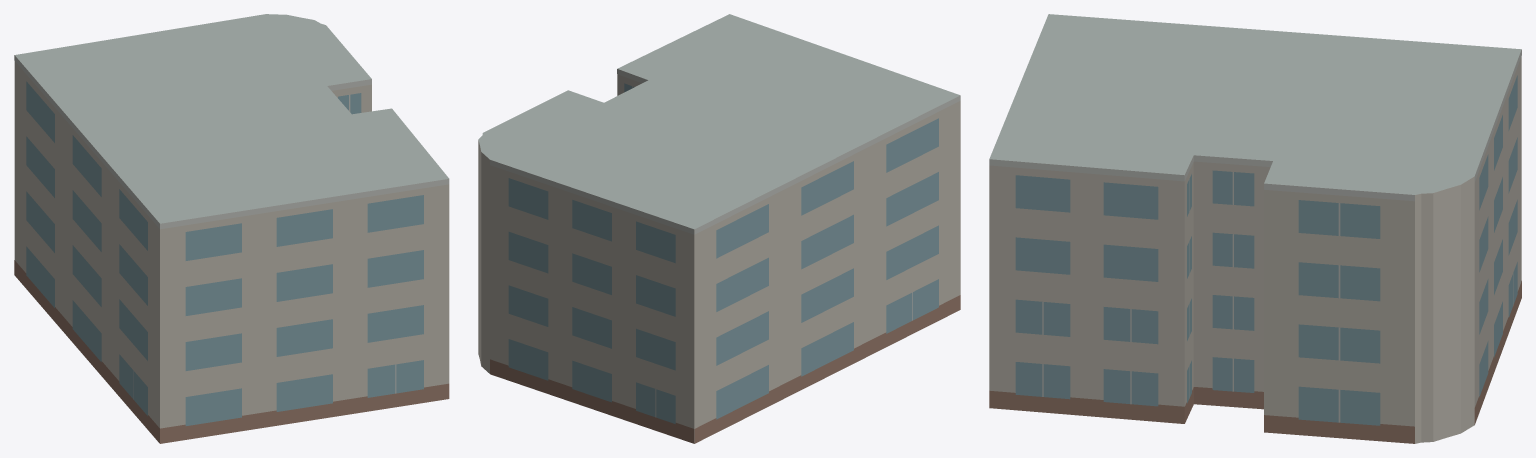
The model's file is survey-upis-32675575.glb.
3 views of the same model, side by side, from view 1: azimuth 30°, elevation 25°; view 2: azimuth 150°, elevation 25°; view 3: azimuth 270°, elevation 25° (orthographic). The views are drawn at different scales.
Visible parts, largest first — view 1: survey-upis-32675575.tmp; view 2: survey-upis-32675575.tmp; view 3: survey-upis-32675575.tmp.
Part boxes in pixels (left/top/right/bottom): survey-upis-32675575.tmp: left=14, top=14, right=449, bottom=443; survey-upis-32675575.tmp: left=478, top=14, right=960, bottom=443; survey-upis-32675575.tmp: left=989, top=14, right=1521, bottom=443.
Size of the model in its own units: 15.14 by 9.7 by 18.82.
